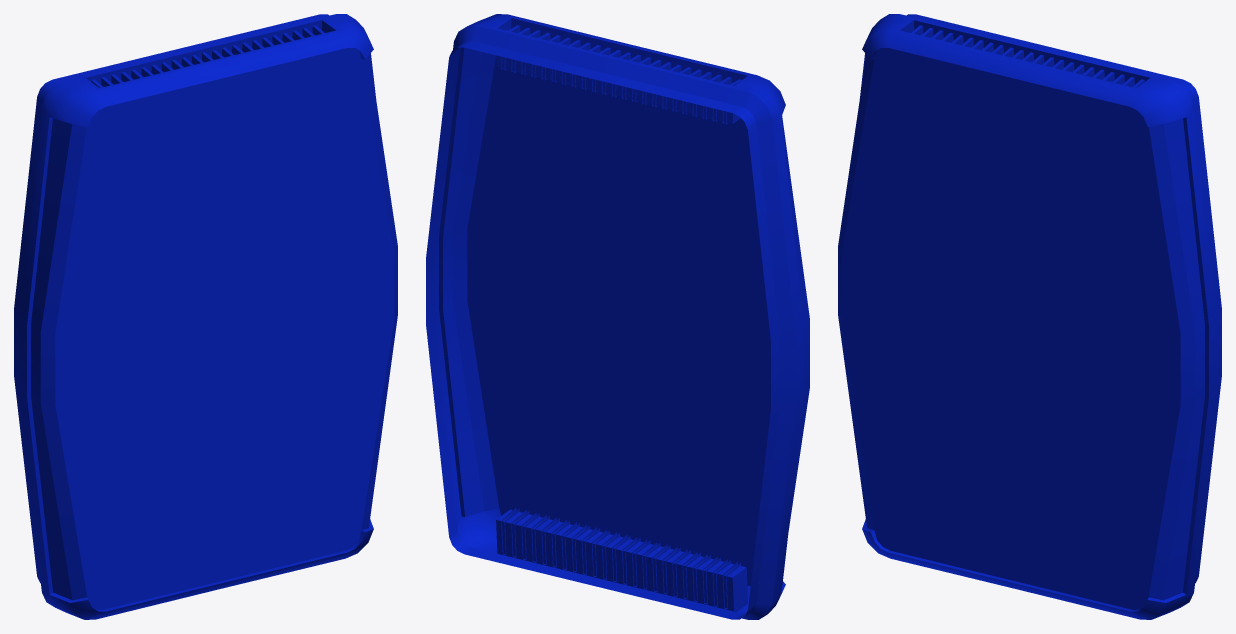
File: Ionisator_1.fbx
3 renders of one model, left to right at view 1: azimuth 30°, elevation 25°; view 2: azimuth 150°, elevation 25°; view 3: azimuth 330°, elevation 25°, orthographic.
Visible parts, largest first — view 1: Ionnisator_1; view 2: Ionnisator_1; view 3: Ionnisator_1.
Boxes of the visible parts, x1,y1,x2,y2 form: Ionnisator_1: [14, 14, 397, 619]; Ionnisator_1: [426, 14, 809, 619]; Ionnisator_1: [838, 14, 1221, 619].
Size of the model in its own units: 47.04 by 65 by 8.99.
